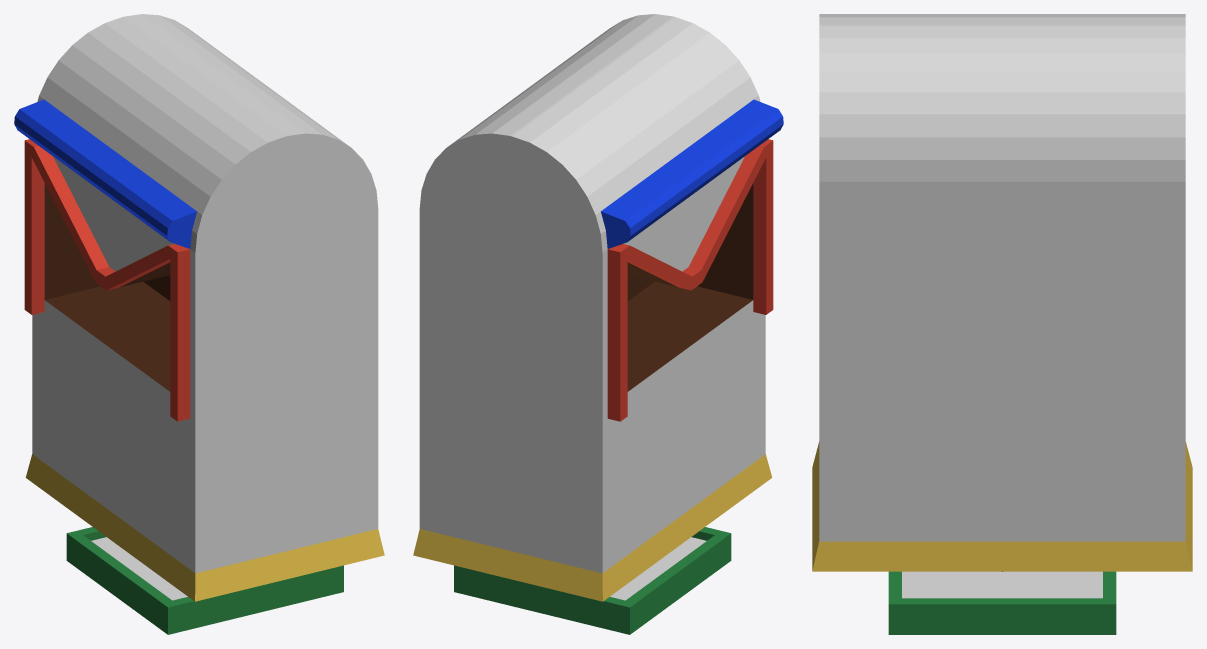
Rendered from MailBox.glb.
3 renders of one model, left to right at view 1: azimuth 30°, elevation 25°; view 2: azimuth 150°, elevation 25°; view 3: azimuth 270°, elevation 25°, orthographic. The views are drawn at different scales.
Visible parts, largest first — view 1: Post; view 2: Post; view 3: Post.
Boxes of the visible parts, left/top/right/bottom form: Post: left=14, top=14, right=384, bottom=634; Post: left=413, top=14, right=783, bottom=634; Post: left=812, top=14, right=1192, bottom=634.
Bounding box in the file's own units: 0.9897 × 2.26 × 1.39.
